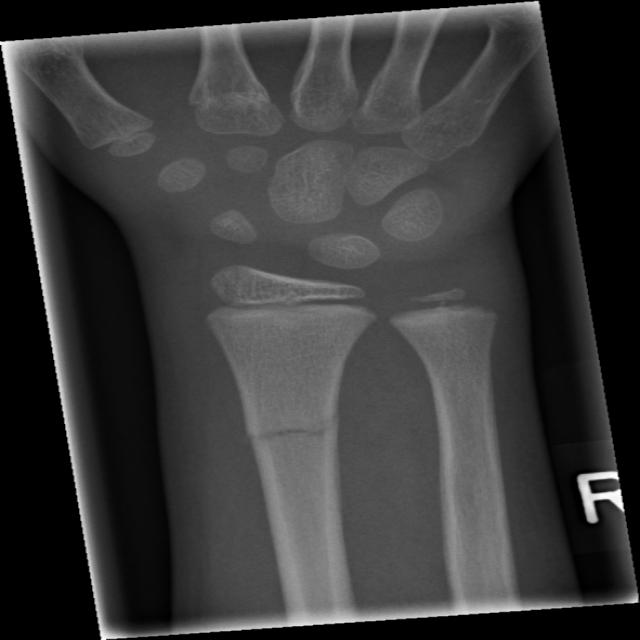radius fracture: (220, 373, 362, 506)
